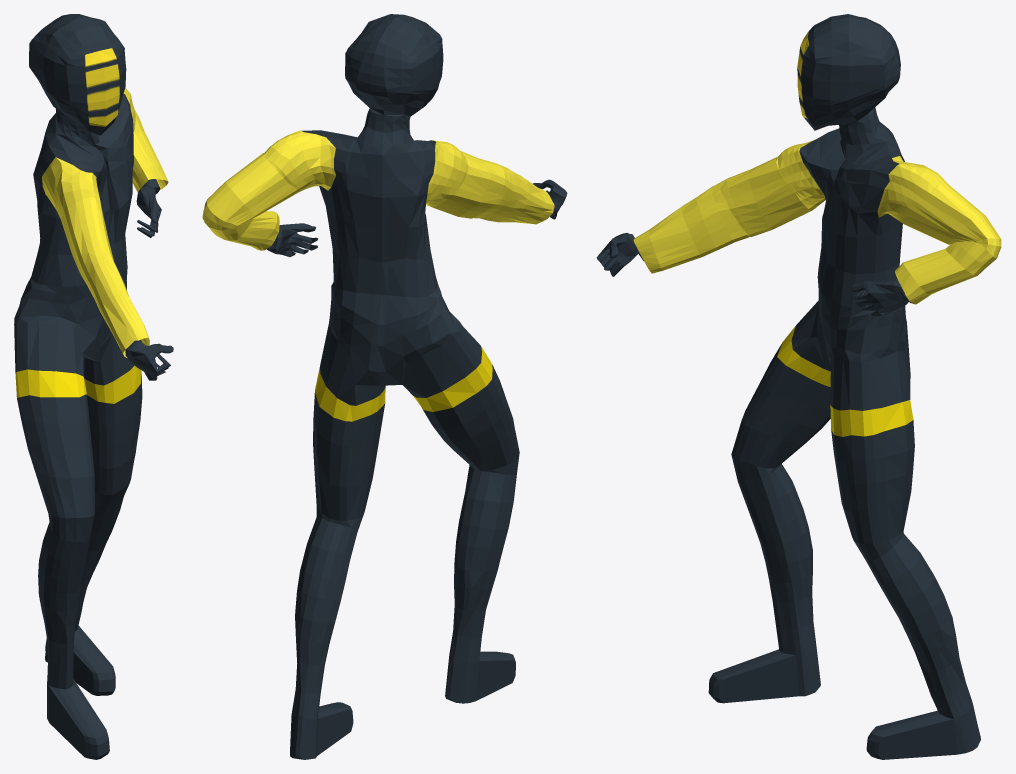
The model's file is Sentry_WB_000011.obj.
3 renders of one model, left to right at view 1: azimuth 30°, elevation 25°; view 2: azimuth 150°, elevation 25°; view 3: azimuth 270°, elevation 25°, orthographic. The views are drawn at different scales.
Visible parts, largest first — view 1: Cube; view 2: Cube; view 3: Cube.
Part boxes in pixels (left/top/right/bottom): Cube: left=14, top=14, right=173, bottom=759; Cube: left=202, top=14, right=567, bottom=759; Cube: left=596, top=14, right=1001, bottom=759.
Size of the model in its own units: 1.17 by 3.87 by 1.98.
